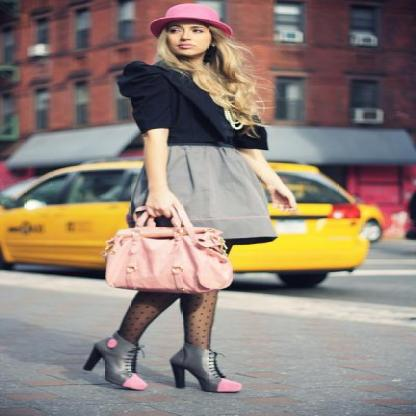bag: (106, 203, 233, 307)
hat: (151, 4, 242, 47)
jacket: (112, 60, 268, 150)
shoe: (87, 334, 242, 392)
skirt: (118, 146, 276, 254)
